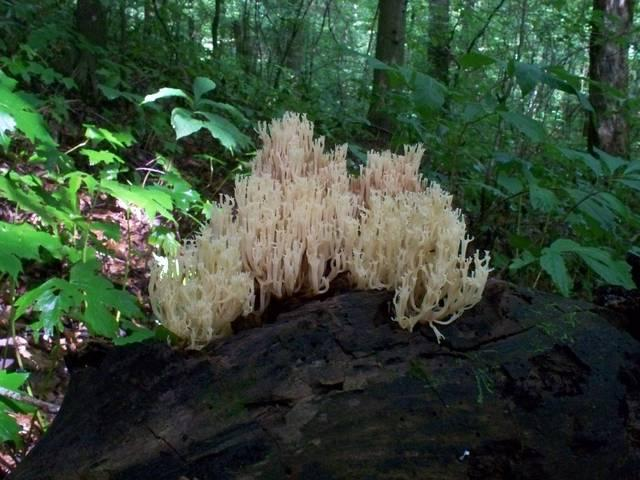Edible Mushroom: (241, 107, 494, 350), (146, 199, 256, 350)
